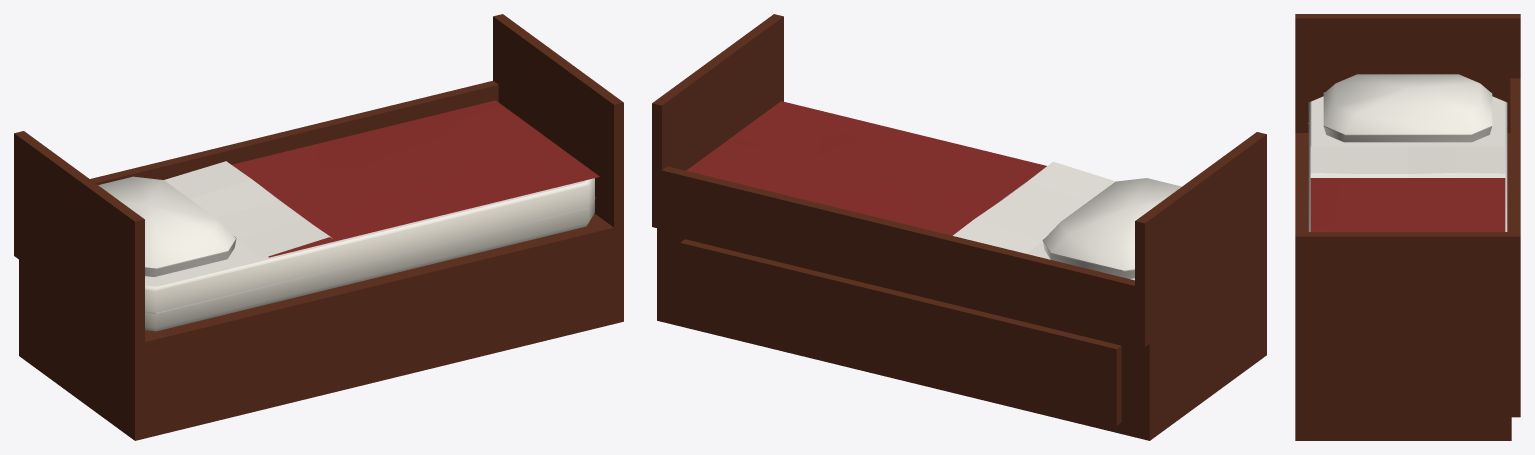
Rendered from parametric-sized-berth-l175-2nd.glb.
3 renders of one model, left to right at view 1: azimuth 30°, elevation 25°; view 2: azimuth 150°, elevation 25°; view 3: azimuth 270°, elevation 25°, orthographic. The views are drawn at different scales.
Parts seen in each view (by area): view 1: parametric-sized-berth-l175-2nd; view 2: parametric-sized-berth-l175-2nd; view 3: parametric-sized-berth-l175-2nd.
Boxes of the visible parts, x1,y1,x2,y2 form: parametric-sized-berth-l175-2nd: (14,14,623,440); parametric-sized-berth-l175-2nd: (652,14,1266,440); parametric-sized-berth-l175-2nd: (1295,14,1520,440).
Size of the model in its own units: 1.75 by 0.75 by 0.75.
